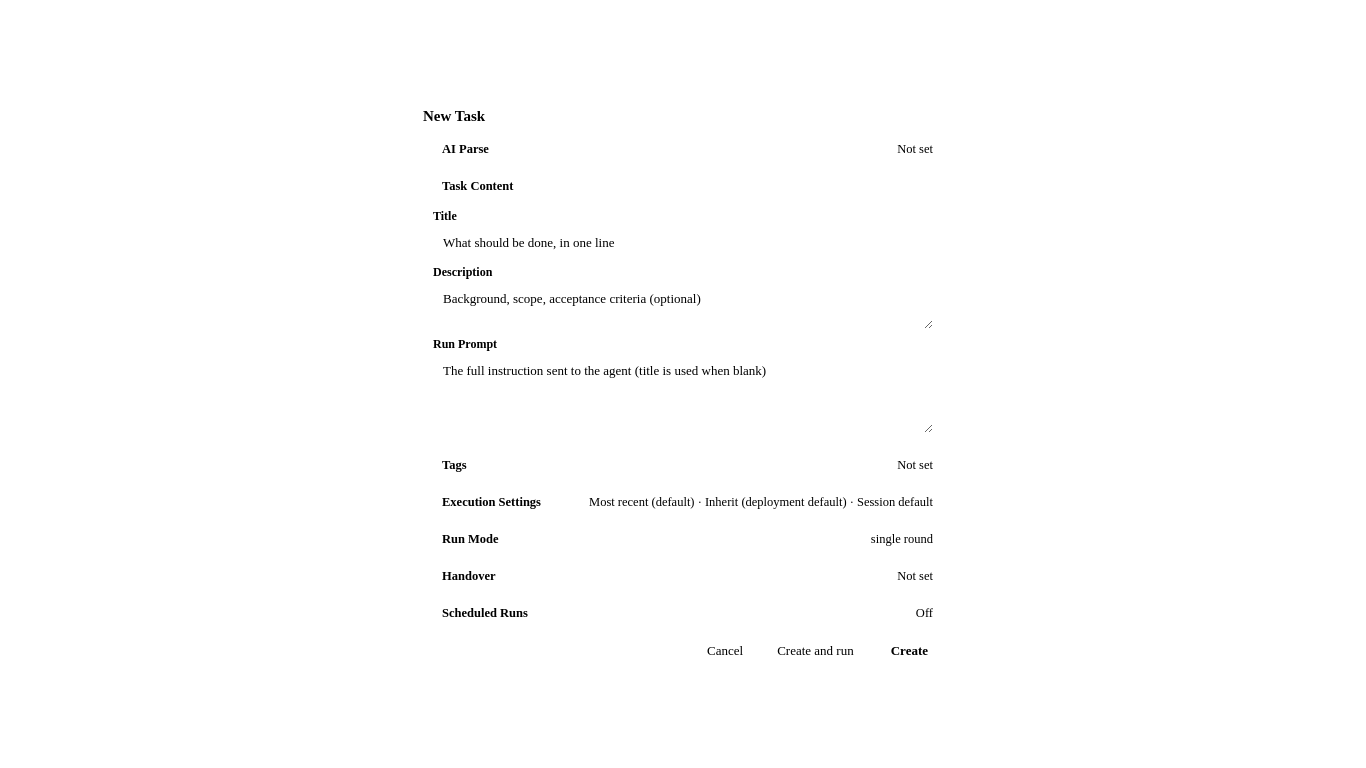
new-task AI parse section (#1540) › user sees the picker start from the model this browser used last (#1621)
Click the button "AI Parse Not set": (465, 149) left=423, top=135, right=943, bottom=164
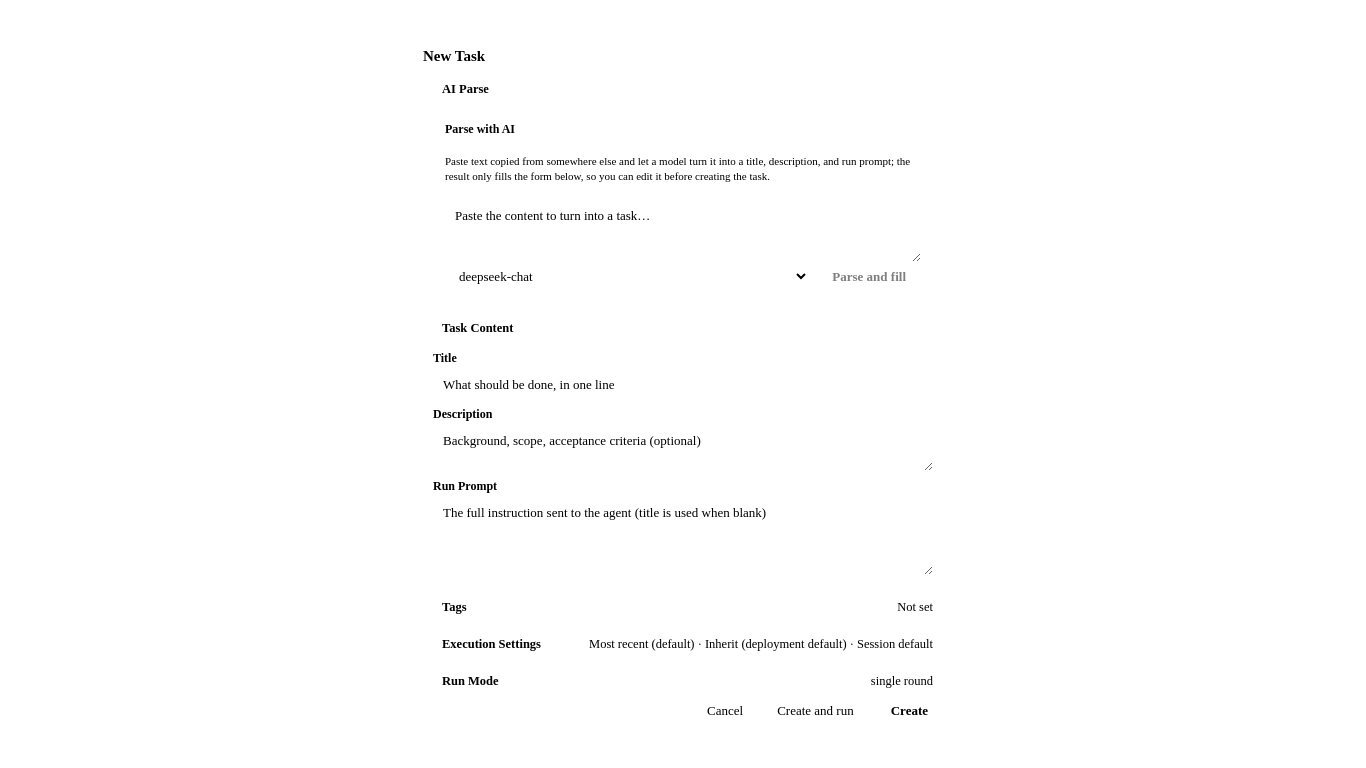
Expected: the dropdown named "Model used for parsing" shows "deepseek-chat", left=445, top=268, right=809, bottom=285
